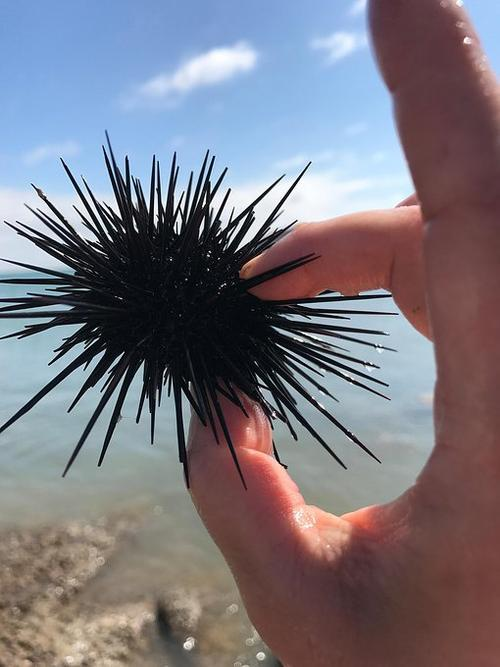urchin: (4, 134, 384, 467)
